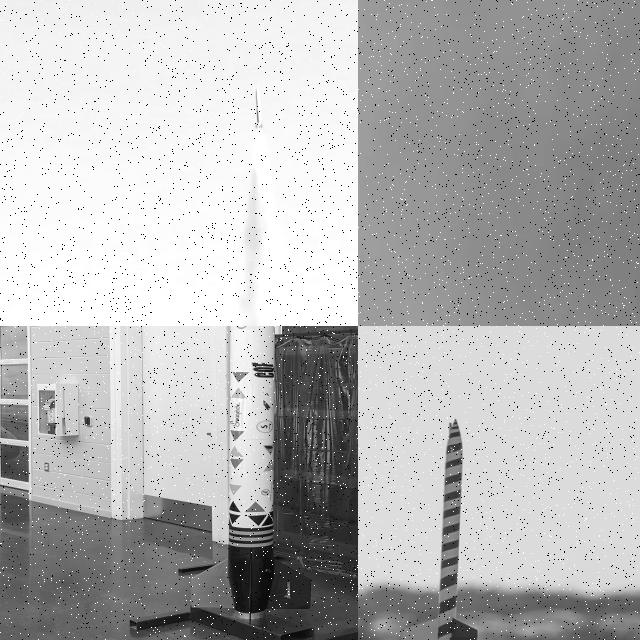Rocket: (191, 326, 311, 625), (398, 417, 479, 640), (255, 86, 262, 129)
